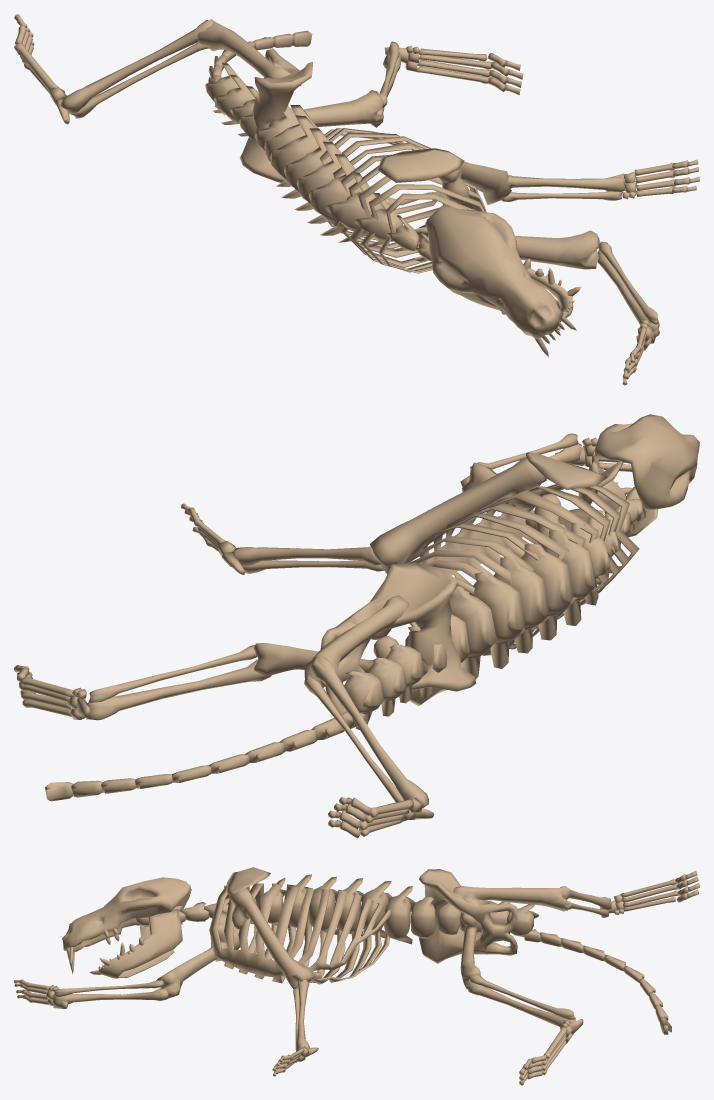
File: wolf_skeleton_retopo2.fbx
3 renders of one model, top to bottom at view 1: azimuth 30°, elevation 25°; view 2: azimuth 150°, elevation 25°; view 3: azimuth 270°, elevation 25°, orthographic. The views are drawn at different scales.
Parts seen in each view (by area): view 1: spine, skull, ribcage, pelvis, b_foot2, b_leg_bone, f_leg_bone4, l.scapula, f_leg_bone2, f_foot1, f_leg_bone, b_leg_bone3 (+7 smaller); view 2: spine, ribcage, pelvis, skull, f_leg_bone, spine2, b_leg_bone4, b_leg_bone, f_leg_bone2, b_foot1, b_leg_bone2, b_foot2 (+7 smaller); view 3: ribcage, spine, skull, pelvis, jaw, f_leg_bone, spine2, b_foot1, b_leg_bone2, b_leg_bone4, f_leg_bone3, f_leg_bone4 (+7 smaller).
Boxes of the visible parts, x1,y1,x2,y2 form: spine: [205, 62, 431, 261]; skull: [425, 205, 576, 357]; ribcage: [314, 128, 486, 273]; pelvis: [239, 48, 312, 182]; b_foot2: [384, 45, 523, 95]; b_leg_bone: [60, 19, 213, 118]; f_leg_bone4: [515, 230, 599, 269]; l.scapula: [378, 148, 464, 182]; f_leg_bone2: [501, 174, 625, 201]; f_foot1: [611, 159, 699, 199]; f_leg_bone: [439, 161, 511, 204]; b_leg_bone3: [304, 90, 383, 126]; spine: [344, 487, 645, 729]; ribcage: [404, 484, 639, 655]; pelvis: [320, 562, 476, 713]; skull: [594, 414, 699, 510]; f_leg_bone: [370, 457, 546, 574]; spine2: [45, 711, 365, 801]; b_leg_bone4: [86, 645, 271, 720]; b_leg_bone: [304, 654, 428, 807]; f_leg_bone2: [232, 546, 383, 573]; b_foot1: [328, 797, 434, 838]; b_leg_bone2: [304, 595, 409, 687]; b_foot2: [14, 665, 90, 719]; ribcage: [209, 883, 392, 984]; spine: [136, 874, 538, 944]; skull: [62, 877, 191, 974]; pelvis: [419, 869, 517, 963]; jaw: [89, 909, 182, 978]; f_leg_bone: [229, 888, 314, 989]; spine2: [523, 929, 671, 1034]; b_foot1: [600, 870, 699, 914]; b_leg_bone2: [453, 886, 570, 911]; b_leg_bone4: [468, 975, 575, 1027]; f_leg_bone3: [52, 980, 168, 1006]; f_leg_bone4: [156, 923, 239, 998].
Bounding box in the file's own units: 154 × 47.71 × 282.
